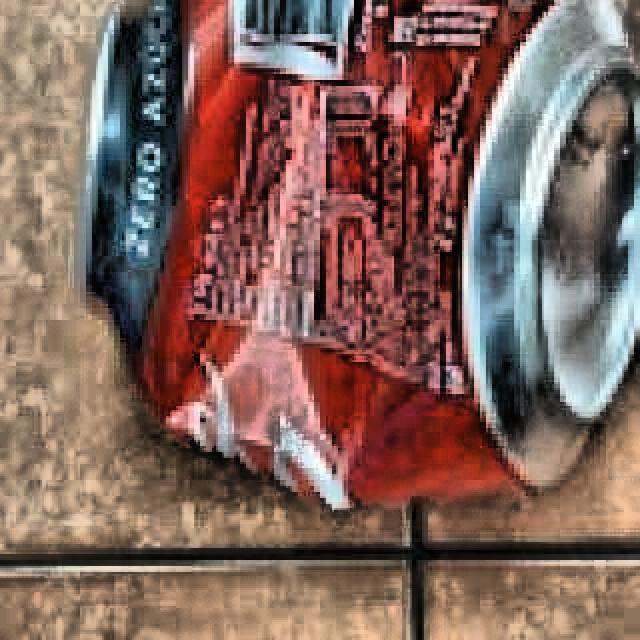metal: (66, 0, 640, 516)
